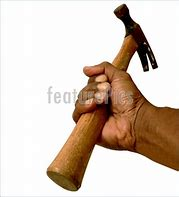hammer: (44, 2, 159, 193)
